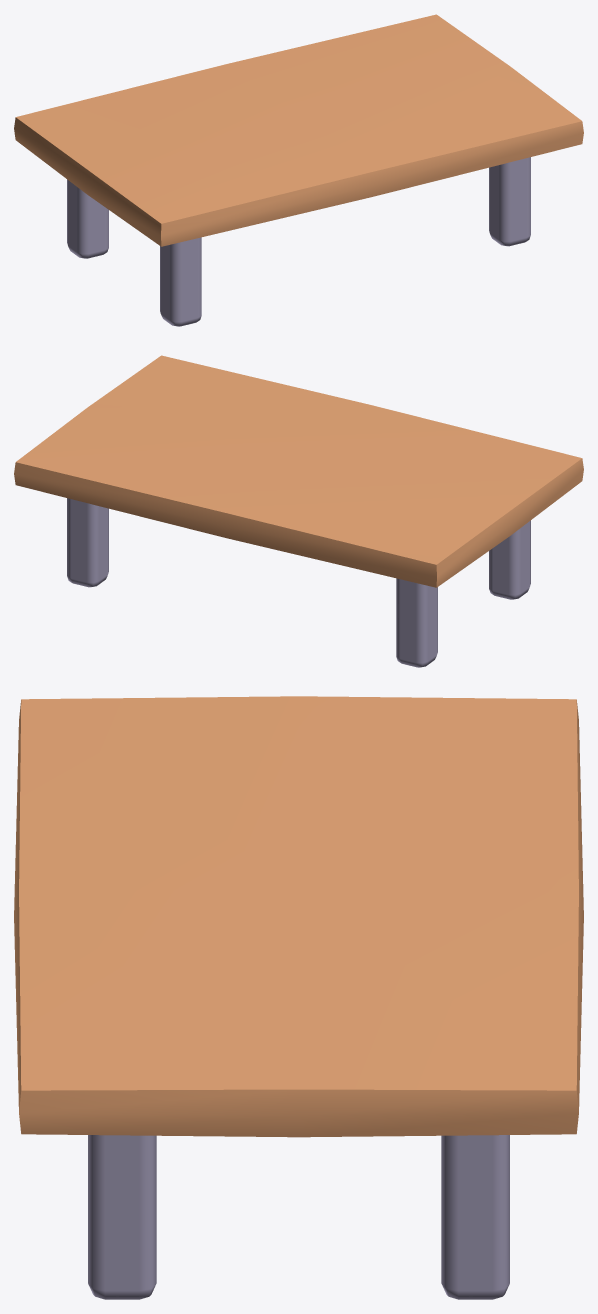
Rendered from coffee-table.glb.
3 views of the same model, one above another, from view 1: azimuth 30°, elevation 25°; view 2: azimuth 150°, elevation 25°; view 3: azimuth 270°, elevation 25° (orthographic). The views are drawn at different scales.
Visible parts, largest first — view 1: part (×4); view 2: part (×4); view 3: part (×3).
Boxes of the visible parts, x1,y1,x2,y2 form: part (×4): (14,14,583,326); part (×4): (14,355,583,667); part (×3): (14,696,583,1299).
Size of the model in its own units: 1.65 by 0.485 by 1.
Materials: 1 (1 with a texture image).
